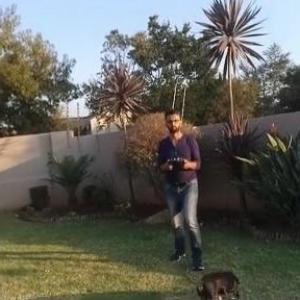follow: (155, 103, 212, 272)
null: (183, 262, 245, 299)
